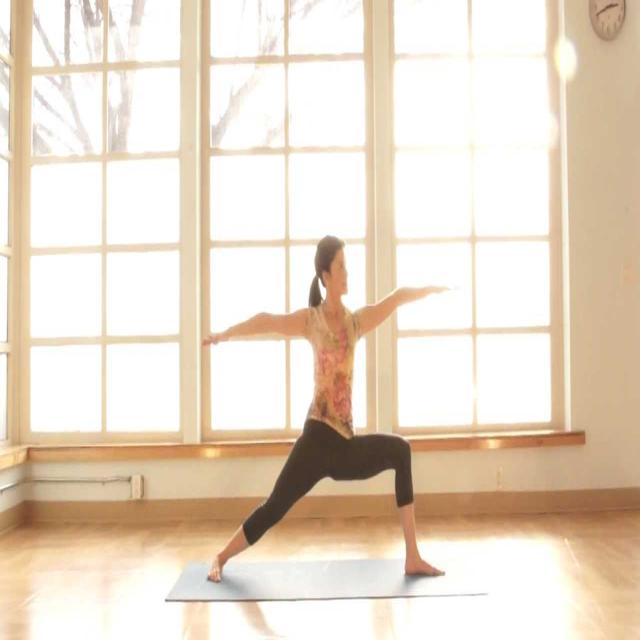Warrior_II: (188, 232, 453, 580)
